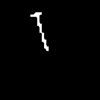half_double_crochet: (31, 13, 47, 50)
